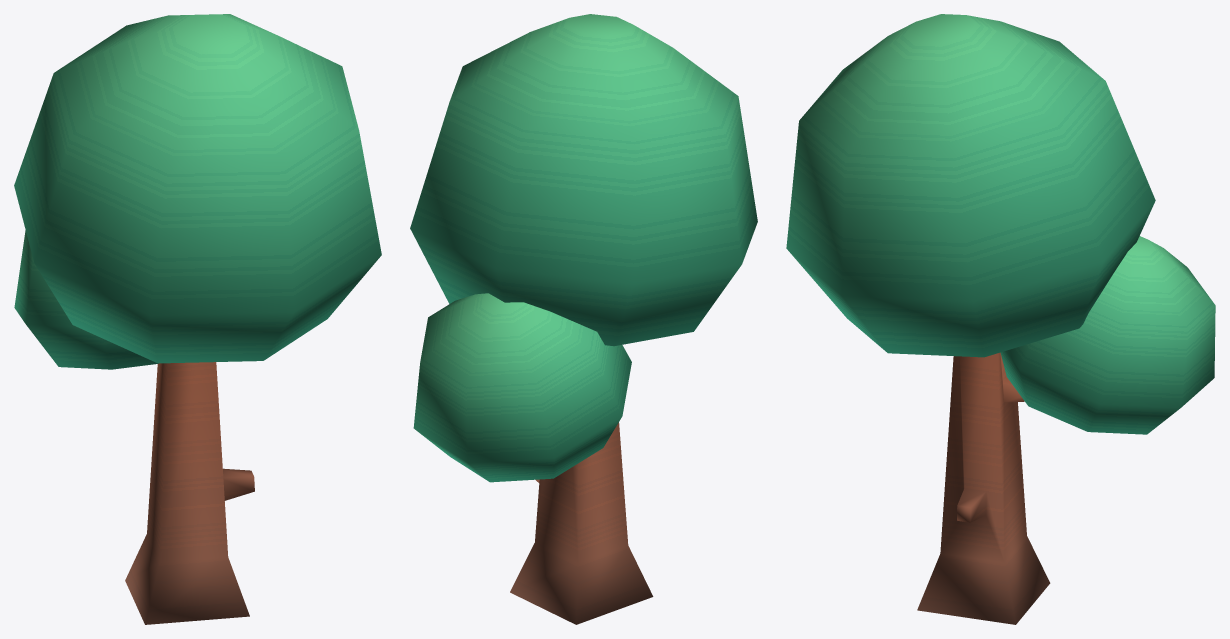
The model's file is tree_spherical_c.glb.
3 views of the same model, side by side, from view 1: azimuth 30°, elevation 25°; view 2: azimuth 150°, elevation 25°; view 3: azimuth 270°, elevation 25° (orthographic). The views are drawn at different scales.
Parts seen in each view (by area): view 1: tree_spherical__Mesh_002; view 2: tree_spherical__Mesh_002; view 3: tree_spherical__Mesh_002.
Part boxes in pixels (bbox=[...]): tree_spherical__Mesh_002: bbox=[14, 14, 381, 624]; tree_spherical__Mesh_002: bbox=[410, 14, 757, 624]; tree_spherical__Mesh_002: bbox=[786, 14, 1215, 624].
Bounding box in the file's own units: 1.04 × 1.76 × 1.2.
1 material, 1 textured.
